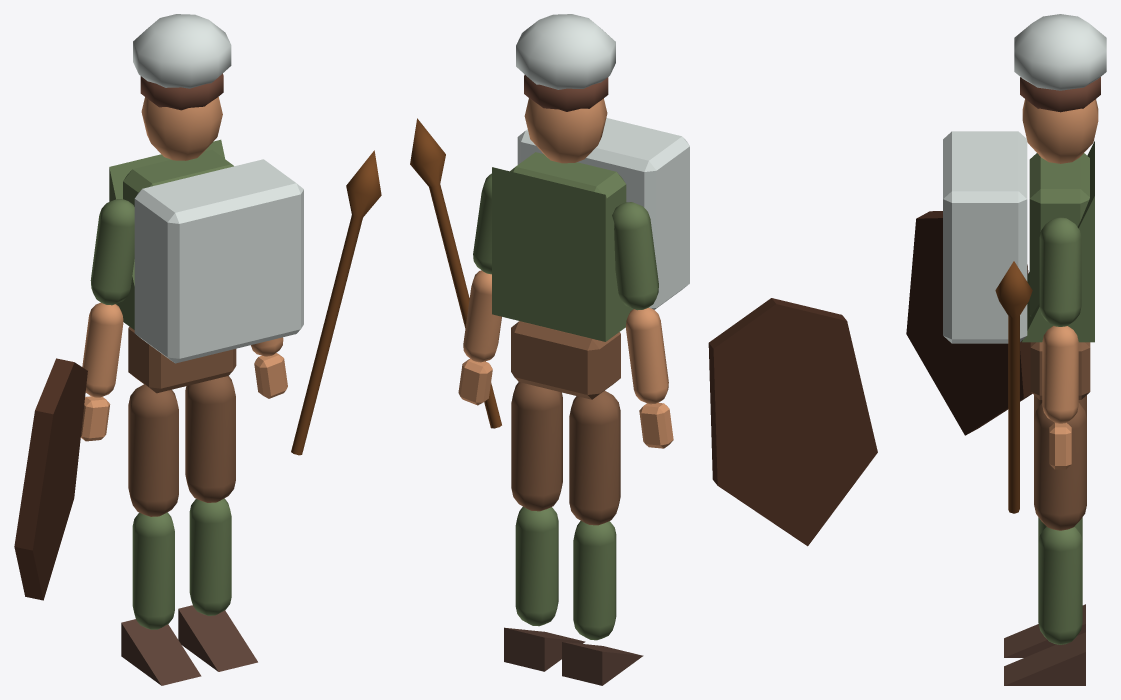
File: adventurer.rustic.glb
The picture shows the model from 3 angles, left to right: view 1: azimuth 30°, elevation 25°; view 2: azimuth 150°, elevation 25°; view 3: azimuth 270°, elevation 25°; orthographic projection.
Visible parts, largest first — view 1: accessory.body, accessory.off-hand, thigh.left, thigh.right, accessory.head, shin.left, shin.right, accessory.main-hand, upper-arm.left, head, pelvis, foot.left (+7 smaller); view 2: accessory.off-hand, tunic, accessory.body, pelvis, thigh.left, thigh.right, accessory.head, shin.right, shin.left, upper-arm.left, head, accessory.main-hand (+9 smaller); view 3: accessory.body, accessory.off-hand, accessory.head, shin.right, thigh.right, torso, upper-arm.right, accessory.main-hand, head, forearm.right, tunic, foot.right (+4 smaller).
Boxes of the visible parts, bbox=[...] form: accessory.body: bbox=[134, 159, 303, 363]; accessory.off-hand: bbox=[14, 358, 87, 600]; thigh.left: bbox=[128, 384, 178, 516]; thigh.right: bbox=[185, 376, 235, 502]; accessory.head: bbox=[133, 14, 231, 88]; shin.left: bbox=[132, 512, 174, 629]; shin.right: bbox=[189, 498, 231, 615]; accessory.main-hand: bbox=[291, 150, 381, 455]; upper-arm.left: bbox=[90, 199, 134, 305]; head: bbox=[141, 97, 222, 160]; pelvis: bbox=[128, 326, 236, 393]; foot.left: bbox=[121, 619, 201, 685]; accessory.off-hand: bbox=[708, 298, 877, 546]; tunic: bbox=[492, 167, 633, 341]; accessory.body: bbox=[517, 118, 689, 309]; pelvis: bbox=[511, 321, 620, 399]; thigh.left: bbox=[569, 390, 620, 525]; thigh.right: bbox=[511, 382, 562, 511]; accessory.head: bbox=[516, 14, 615, 89]; shin.right: bbox=[515, 506, 558, 626]; shin.left: bbox=[573, 521, 616, 640]; upper-arm.left: bbox=[612, 202, 658, 310]; head: bbox=[524, 98, 607, 163]; accessory.main-hand: bbox=[410, 118, 501, 428]; accessory.body: bbox=[943, 131, 1027, 343]; accessory.off-hand: bbox=[906, 211, 1032, 435]; accessory.head: bbox=[1014, 14, 1106, 90]; shin.right: bbox=[1038, 526, 1082, 644]; thigh.right: bbox=[1034, 403, 1086, 530]; torso: bbox=[1029, 153, 1089, 316]; upper-arm.right: bbox=[1039, 217, 1081, 326]; accessory.main-hand: bbox=[995, 261, 1032, 513]; head: bbox=[1022, 99, 1098, 163]; forearm.right: bbox=[1042, 326, 1078, 423]; tunic: bbox=[1021, 141, 1094, 342]; foot.right: bbox=[1004, 632, 1085, 685].
Bounding box in the file's own units: 2.17 × 3.2 × 0.9041.
